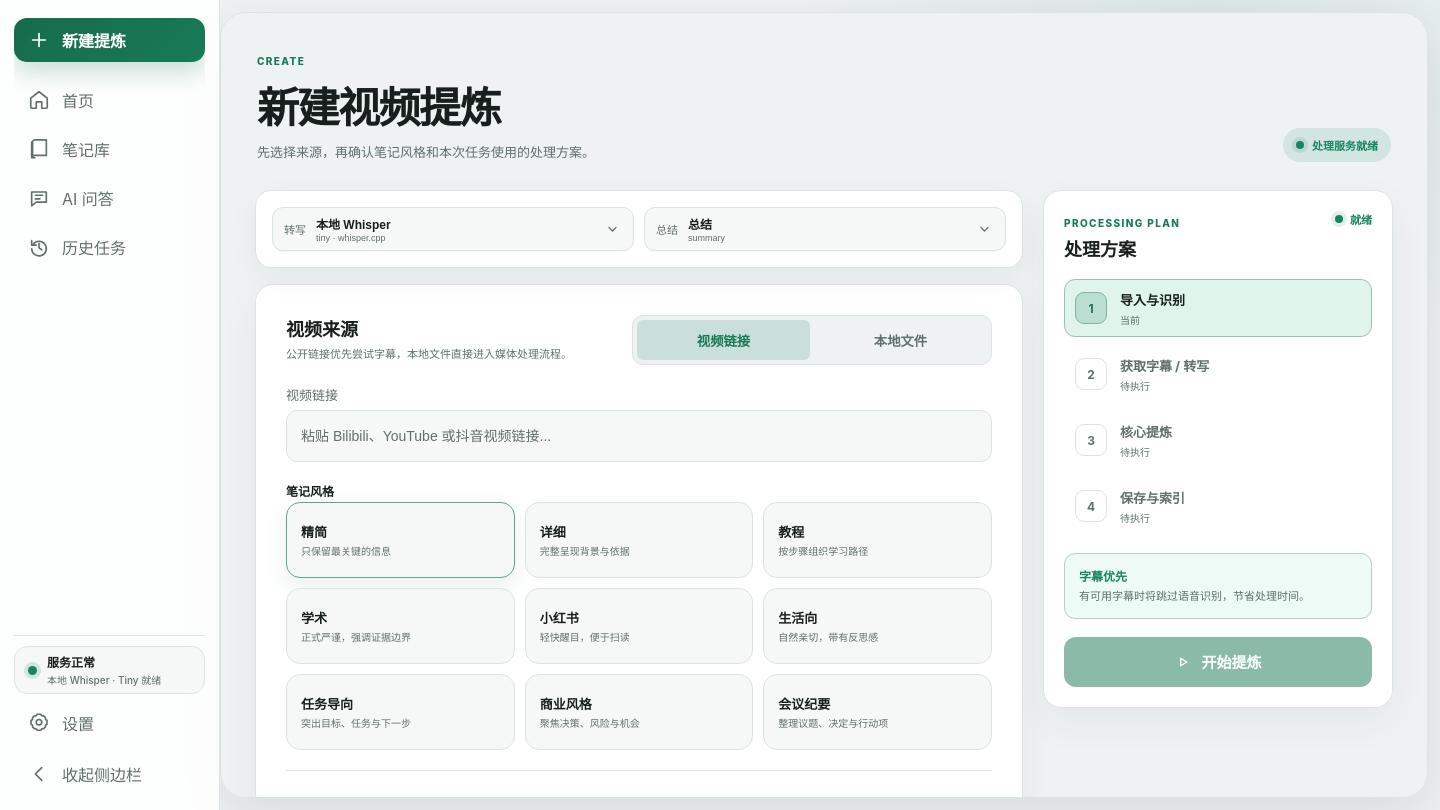
stale active local profile › enables Start for the active local profile when its selected model is ready without selecting online
Step 1. Type "https://v.douyin.com/example" into the field labelled "视频链接" → (639, 436), box [286,410,992,462]
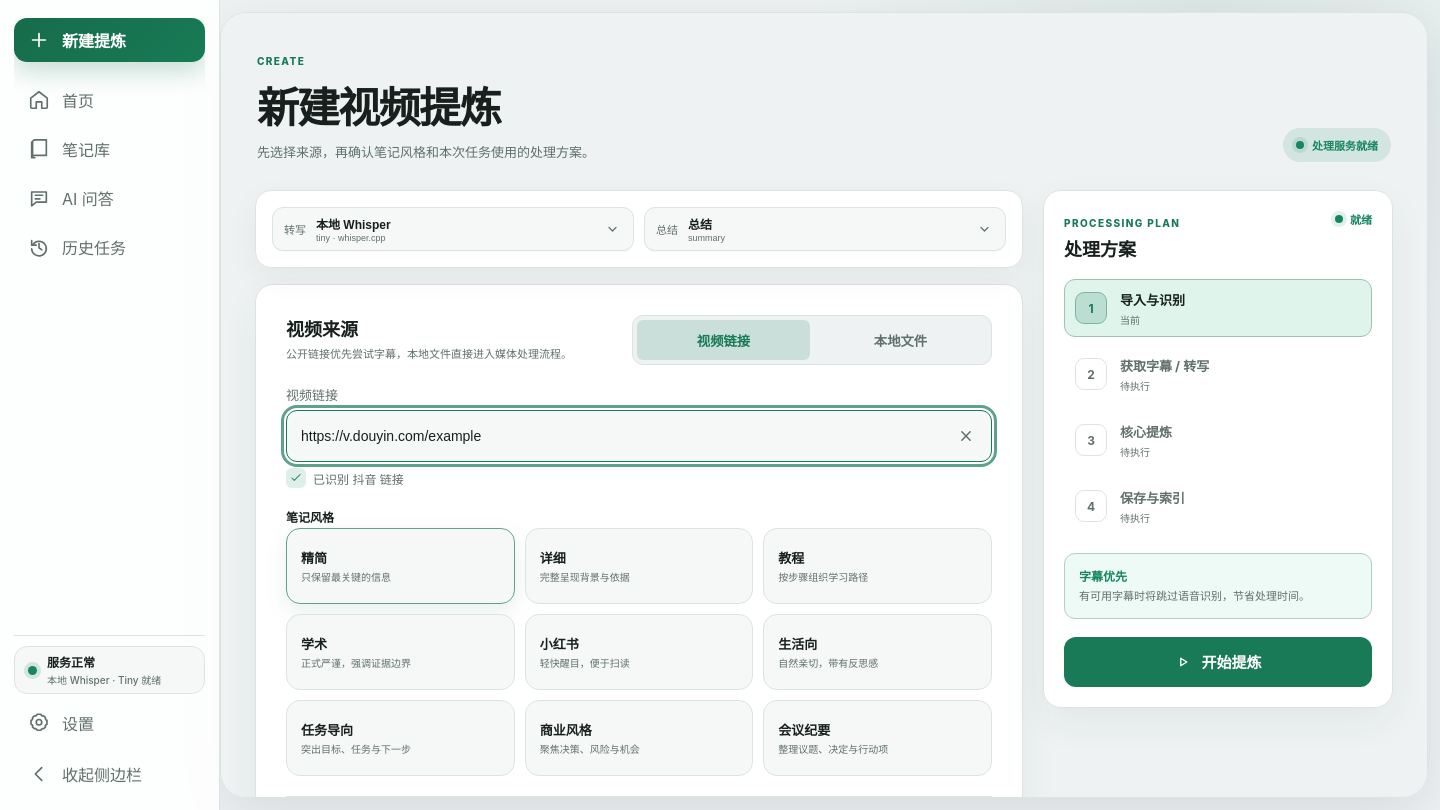
Check: the button with aria-label "转写服务" shows "本地 Whisper", box [272,207,634,251]
Check: the button "开始提炼" is enabled, box [1064,637,1372,687]
